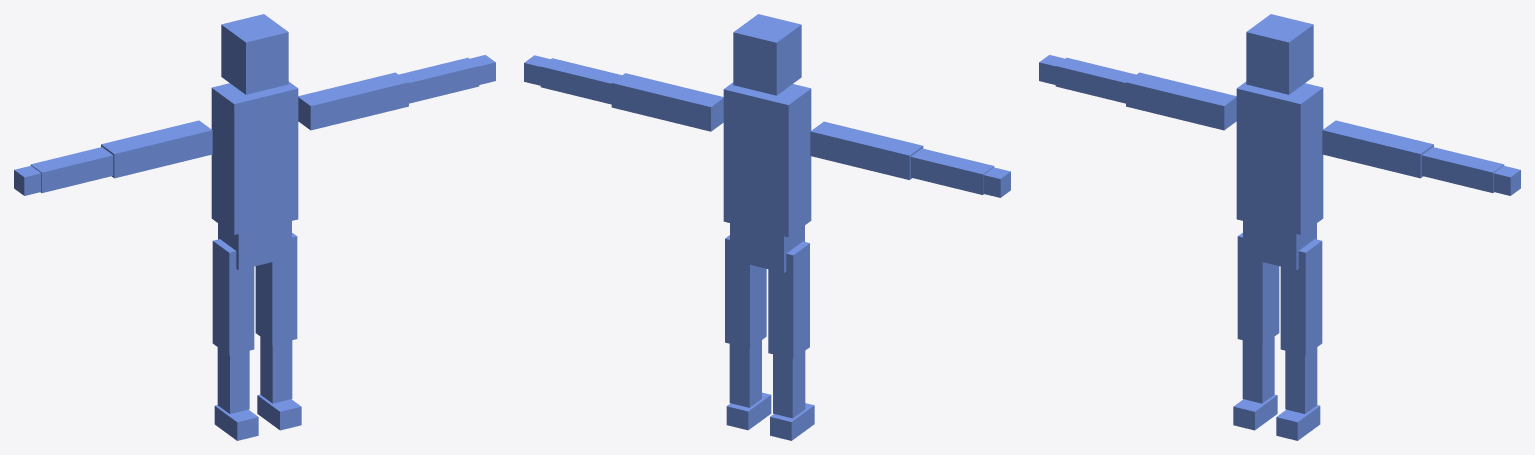
Rendered from blue.glb.
3 renders of one model, left to right at view 1: azimuth 30°, elevation 25°; view 2: azimuth 150°, elevation 25°; view 3: azimuth 330°, elevation 25°, orthographic.
Parts seen in each view (by area): view 1: Mesh; view 2: Mesh; view 3: Mesh.
Boxes of the visible parts, x1,y1,x2,y2 form: Mesh: (14,14,495,440); Mesh: (524,14,1010,440); Mesh: (1039,14,1520,440).
Bounding box in the file's own units: 2.64 × 2.11 × 0.26.
